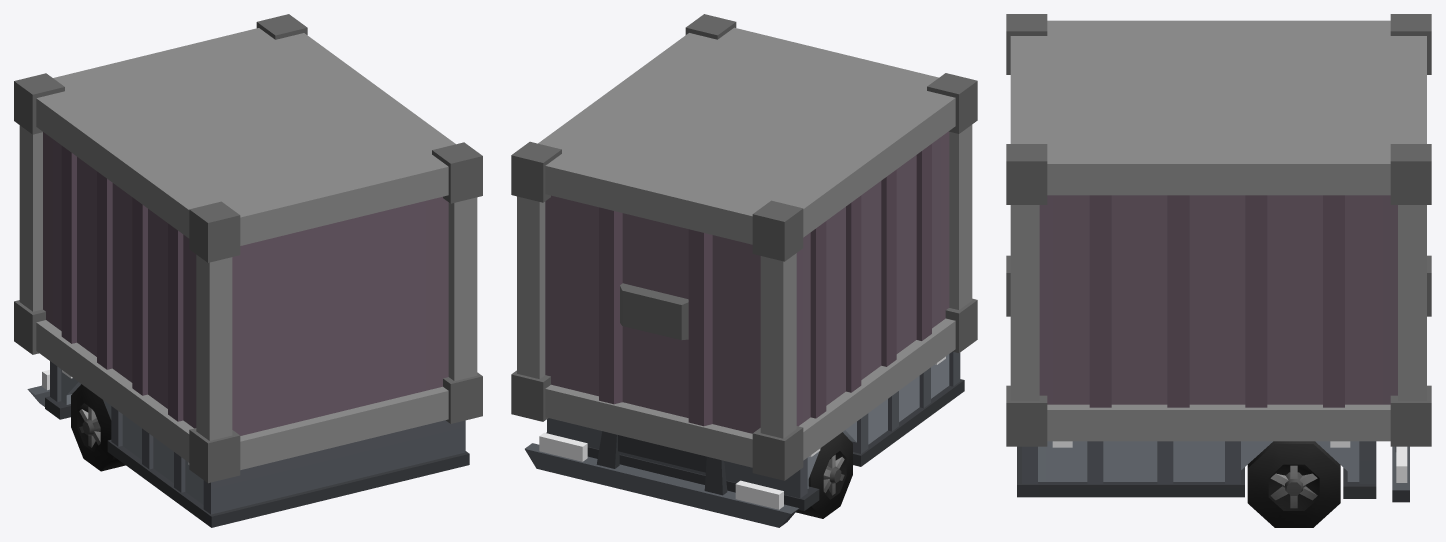
The model's file is cargo_02_E_2.fbx.
3 views of the same model, side by side, from view 1: azimuth 30°, elevation 25°; view 2: azimuth 150°, elevation 25°; view 3: azimuth 270°, elevation 25° (orthographic). The views are drawn at different scales.
Visible parts, largest first — view 1: cargo_02_E_2; view 2: cargo_02_E_2; view 3: cargo_02_E_2.
Boxes of the visible parts, x1,y1,x2,y2 form: cargo_02_E_2: (14,14,482,527); cargo_02_E_2: (511,14,977,527); cargo_02_E_2: (1006,14,1431,527).
Size of the model in its own units: 1374 by 1633 by 1680.
